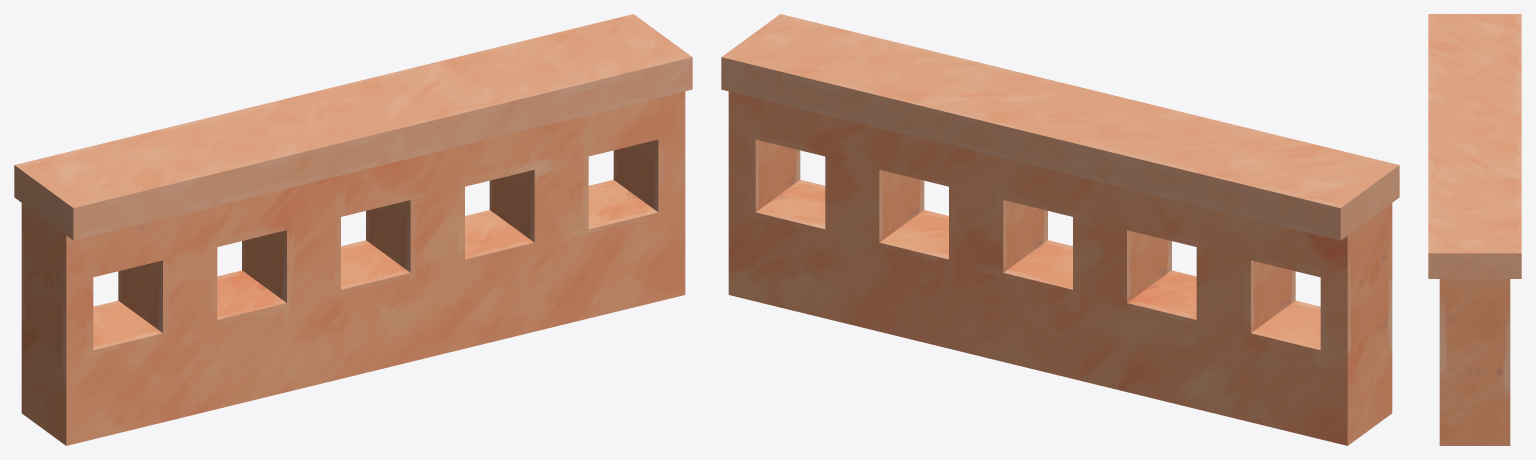
The model's file is parapet_pierced.fbx.
3 renders of one model, left to right at view 1: azimuth 30°, elevation 25°; view 2: azimuth 150°, elevation 25°; view 3: azimuth 270°, elevation 25°, orthographic. The views are drawn at different scales.
Visible parts, largest first — view 1: parapet_pierced; view 2: parapet_pierced; view 3: parapet_pierced.
Boxes of the visible parts, x1=… form: parapet_pierced: x1=14, y1=14, x2=692, y2=445; parapet_pierced: x1=721, y1=14, x2=1399, y2=445; parapet_pierced: x1=1428, y1=14, x2=1521, y2=445.
Bounding box in the file's own units: 8 × 3 × 1.32.
Materials: 1 (1 with a texture image).
